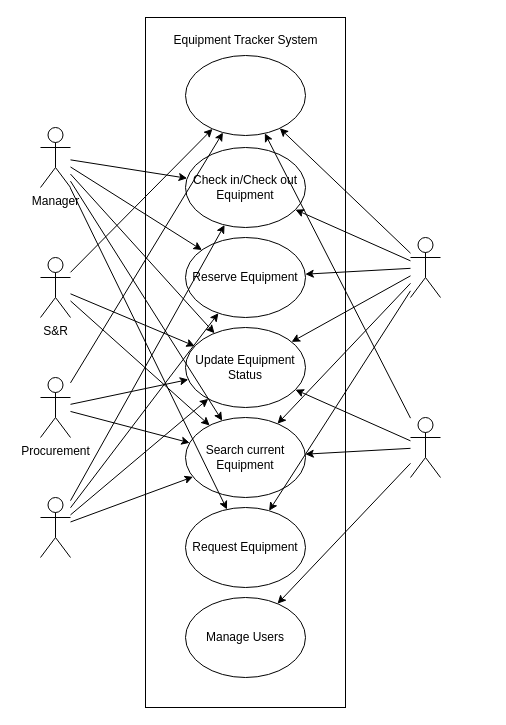
Image size: 506x725. Some labels were removed from this diagram. Each missing label, with the centre of its shape:
"Add/Remove Equipment" goes at pixel 245 95.
"Equipment Database" goes at pixel 425 267.
"System Administrator/IT" goes at pixel 425 447.
"Tech/Engineer" goes at pixel 55 527.
